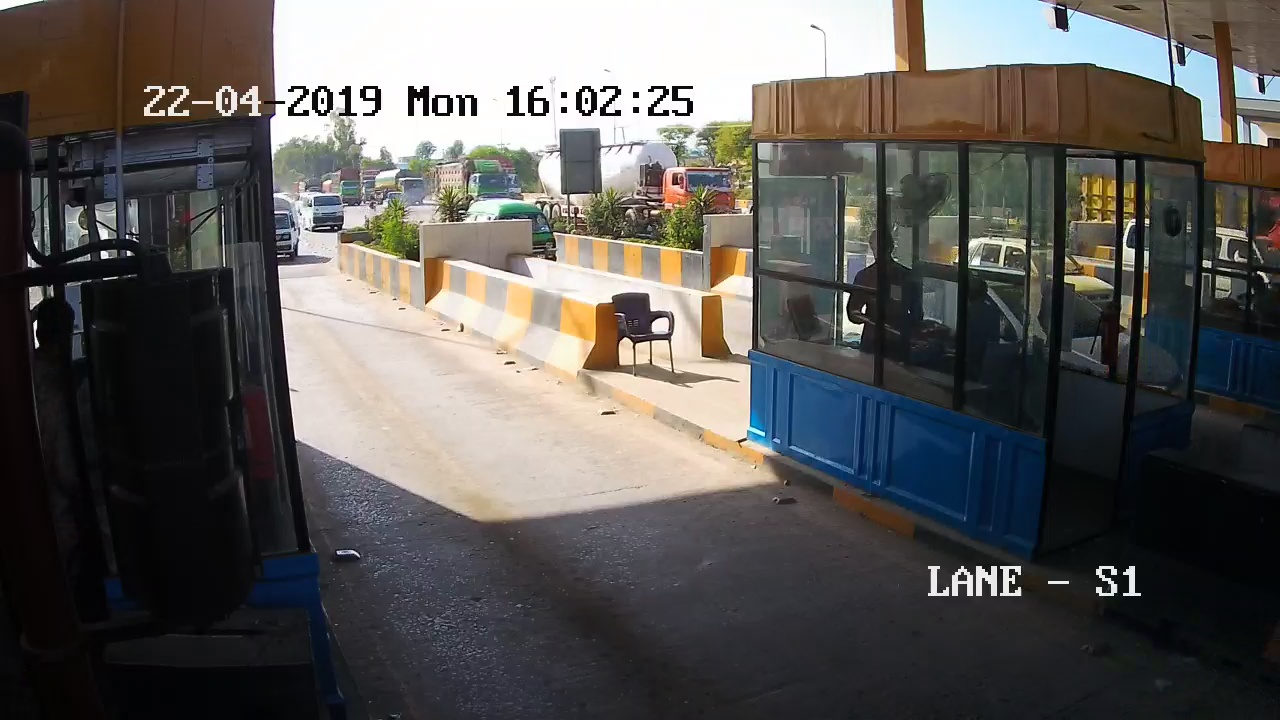car: (269, 174, 301, 270)
